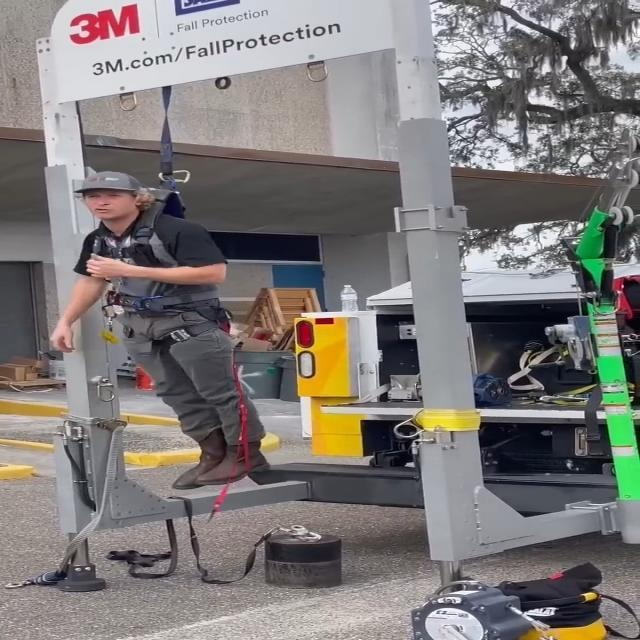Arnes_seguridad: (66, 170, 239, 347)
